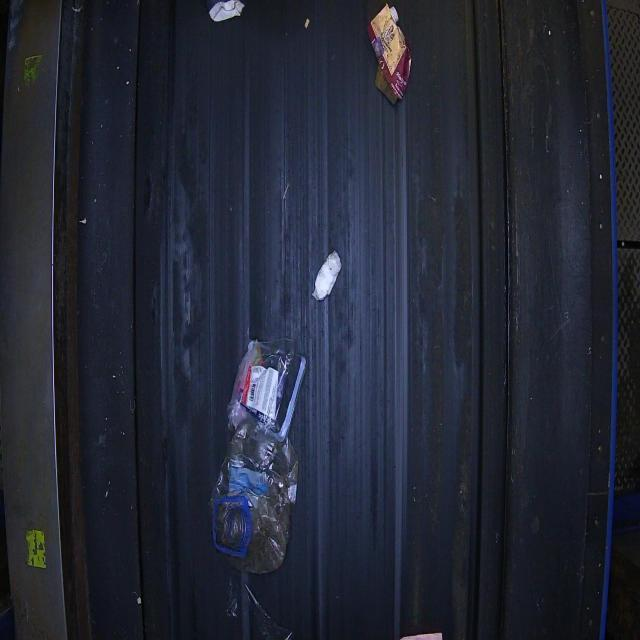organic-waste: (208, 337, 307, 574)
